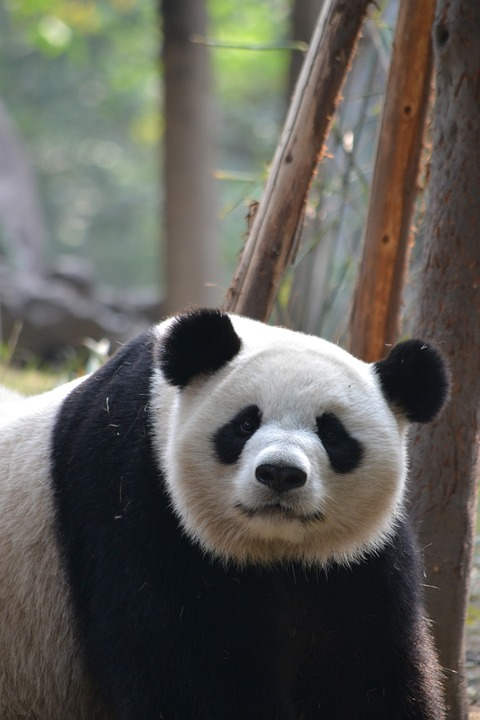panda: (23, 297, 477, 705)
